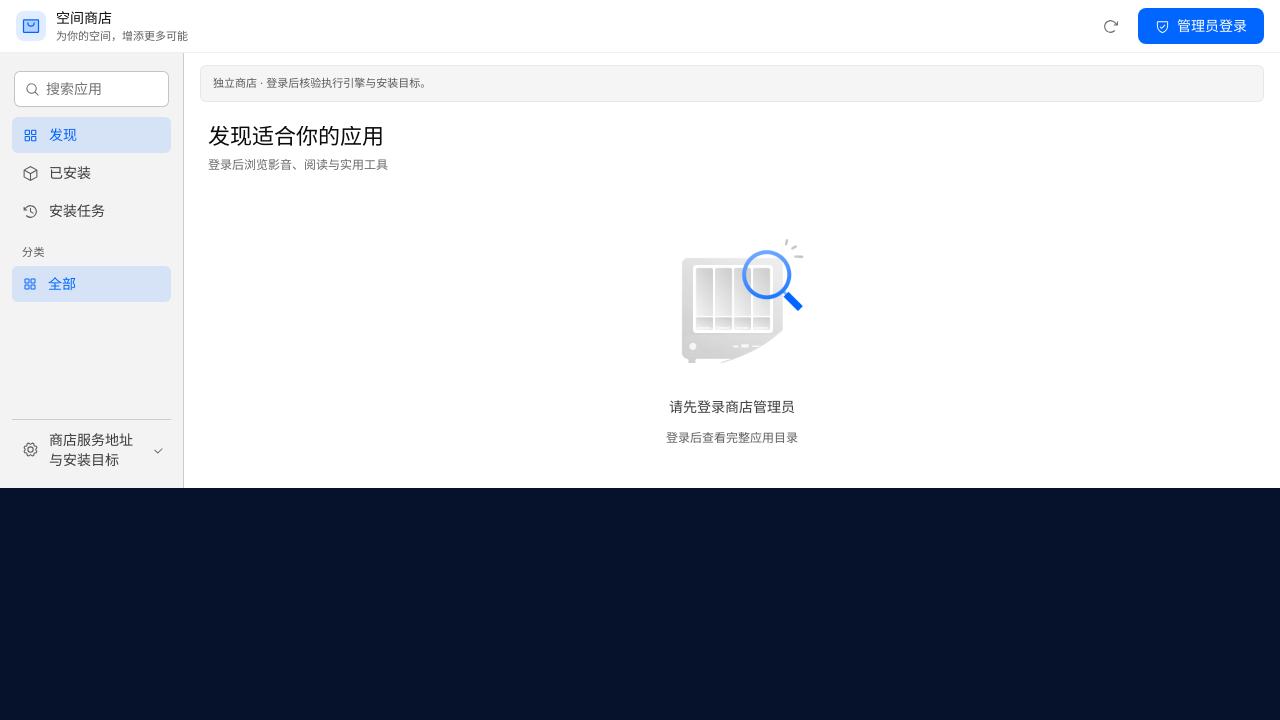
Test: standalone mode never reads NAS identity or exchanges even with persisted trust
This screenshot has width=1280, height=720.
Expected: the text "独立商店 · 登录后核验执行引擎与安装目标。" is shown, [200, 65, 1264, 102]
Click the button "管理员登录" at (1201, 26), box [1138, 8, 1264, 44]
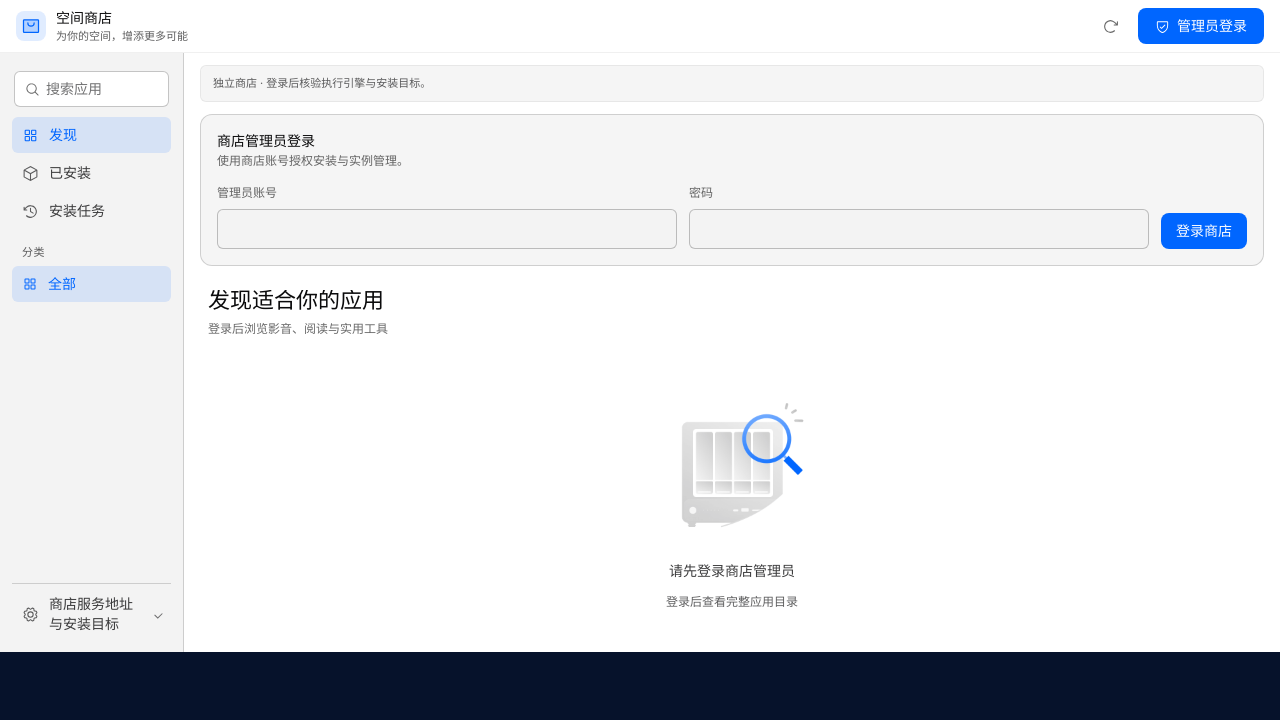
Now the field labelled "管理员账号" is shown, box [217, 209, 677, 249]
